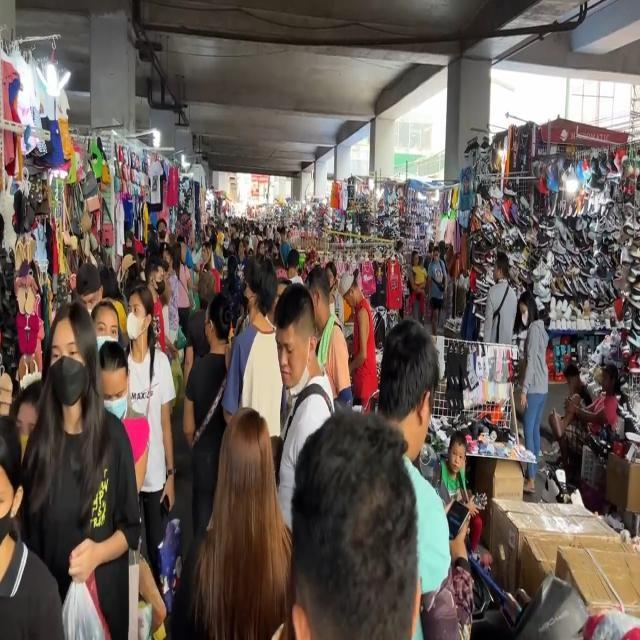hairnet: (274, 316, 312, 396)
